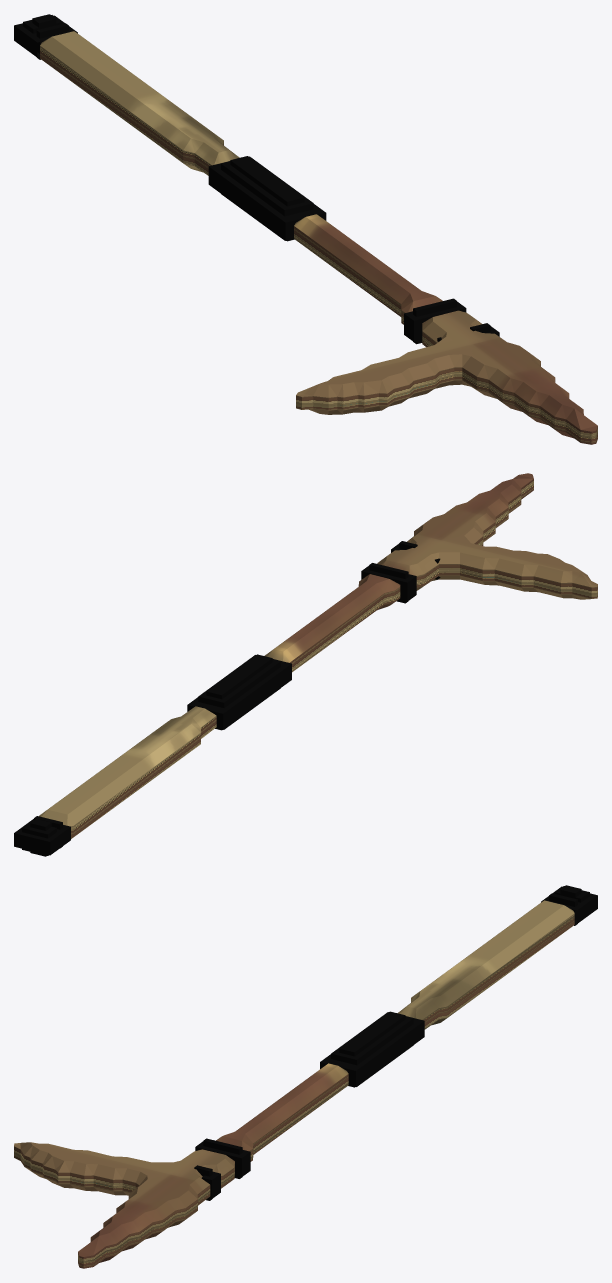
Rendered from bronze_ge_halberd.obj.
3 views of the same model, one above another, from view 1: azimuth 30°, elevation 25°; view 2: azimuth 150°, elevation 25°; view 3: azimuth 330°, elevation 25° (orthographic). The views are drawn at different scales.
Visible parts, largest first — view 1: bronze_ge_halberd; view 2: bronze_ge_halberd; view 3: bronze_ge_halberd.
Part boxes in pixels (x1,y1,x2,y2): bronze_ge_halberd: (14,14,597,444); bronze_ge_halberd: (14,473,597,856); bronze_ge_halberd: (14,885,597,1268).
Bounding box in the file's own units: 0.3923 × 0.0677 × 1.74.
